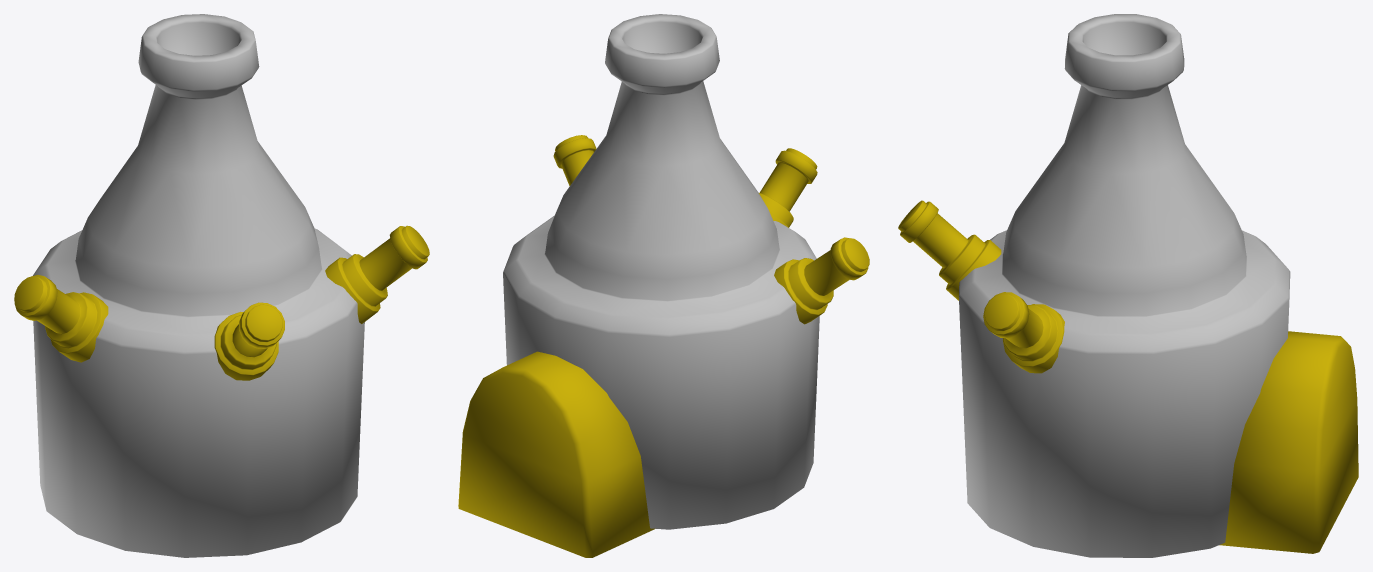
The picture shows the model from 3 angles, left to right: view 1: azimuth 30°, elevation 25°; view 2: azimuth 150°, elevation 25°; view 3: azimuth 270°, elevation 25°; orthographic projection. The views are drawn at different scales.
Visible parts, largest first — view 1: Reactor_add.001; view 2: Reactor_add.001; view 3: Reactor_add.001.
Part boxes in pixels (bbox=[...]): Reactor_add.001: bbox=[14, 14, 429, 557]; Reactor_add.001: bbox=[458, 14, 869, 557]; Reactor_add.001: bbox=[898, 14, 1358, 557].
Size of the model in its own units: 5.26 by 6.24 by 5.69.
